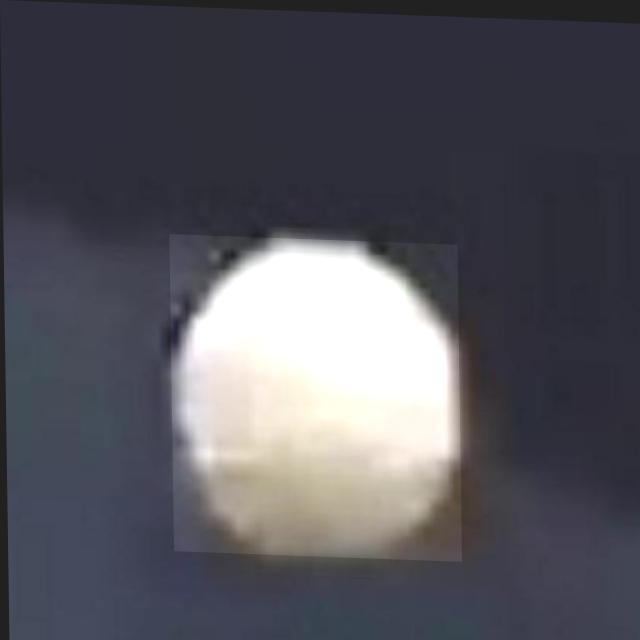-: (168, 233, 460, 558)
